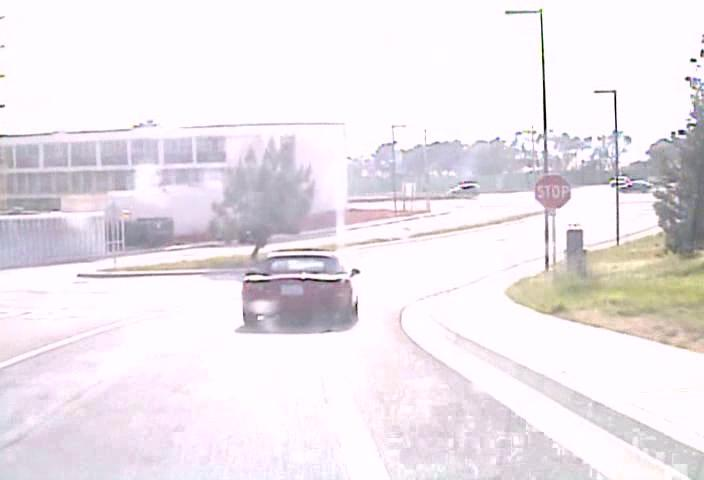stop: (533, 173, 571, 209)
